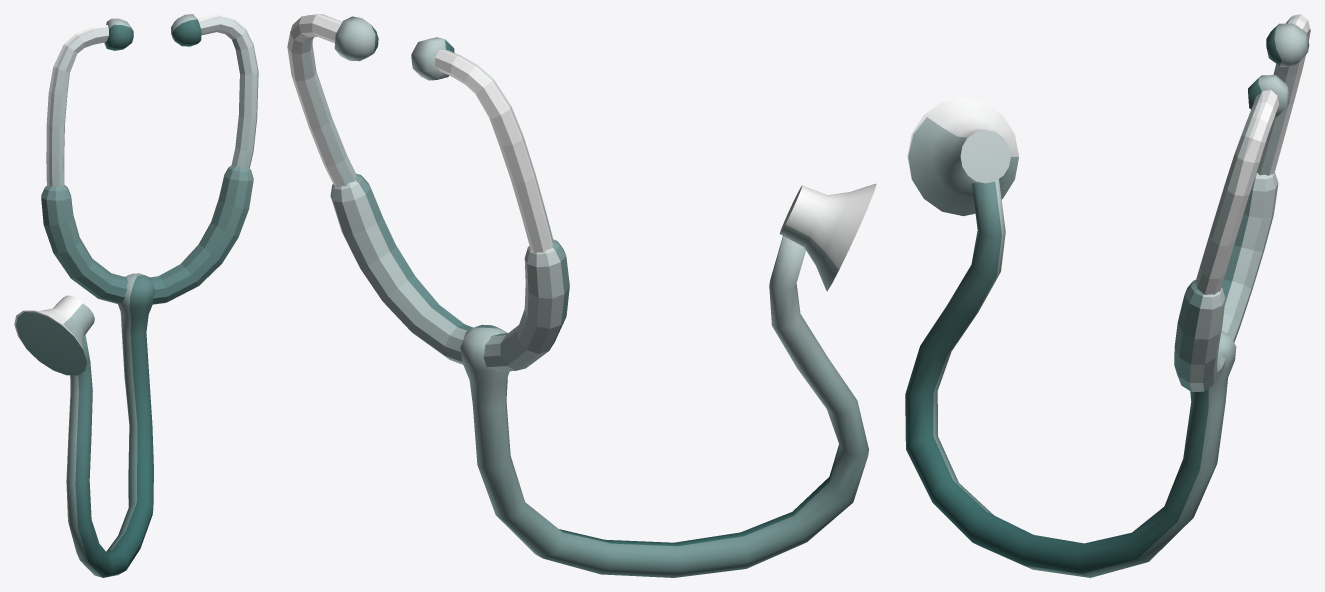
File: Mercy_Stethoscope.fbx
3 views of the same model, side by side, from view 1: azimuth 30°, elevation 25°; view 2: azimuth 150°, elevation 25°; view 3: azimuth 270°, elevation 25° (orthographic). The views are drawn at different scales.
Visible parts, largest first — view 1: Mercy_Stethoscope; view 2: Mercy_Stethoscope; view 3: Mercy_Stethoscope.
Boxes of the visible parts, <box> form: Mercy_Stethoscope: <box>14,14,258,577</box>; Mercy_Stethoscope: <box>287,14,876,577</box>; Mercy_Stethoscope: <box>905,14,1310,577</box>.
Size of the model in its own units: 14.11 by 18.2 by 11.23.
